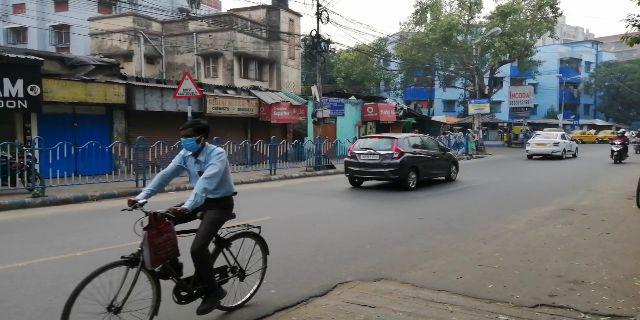Car: (341, 134, 461, 182), (522, 132, 582, 158)
Cycle: (58, 118, 271, 312)
Motorbike: (607, 128, 630, 165)
